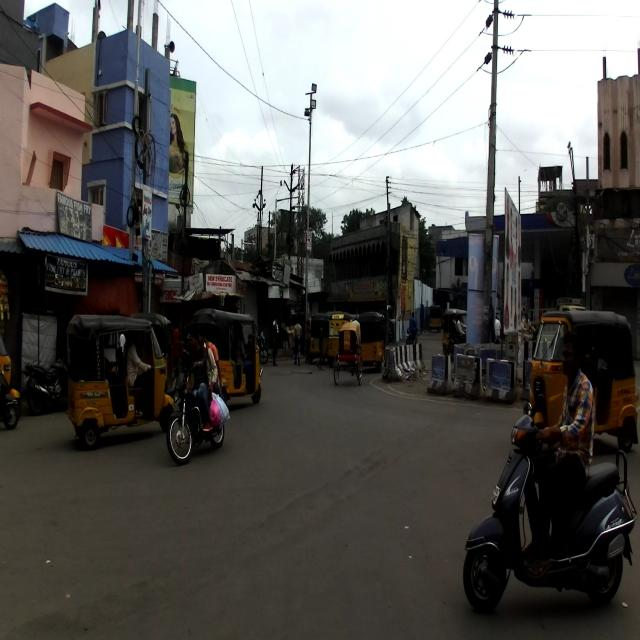autorickshaw: (523, 311, 638, 454), (63, 311, 176, 448), (188, 306, 262, 404)
motorcycle_Hero: (166, 364, 230, 466)
motorcycle_bajaj: (24, 352, 70, 415)
scooter: (462, 399, 638, 596)
